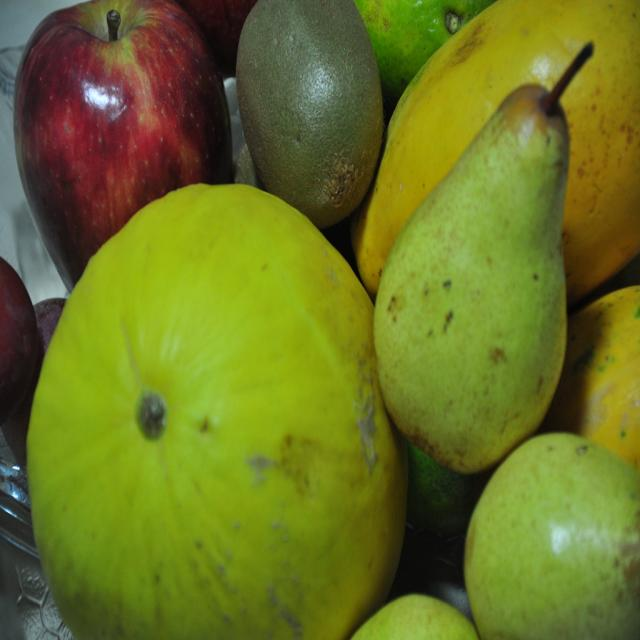apple: (12, 0, 233, 317)
kiwi: (236, 0, 384, 224)
pear: (374, 41, 590, 472), (462, 426, 639, 638), (351, 590, 481, 638)
